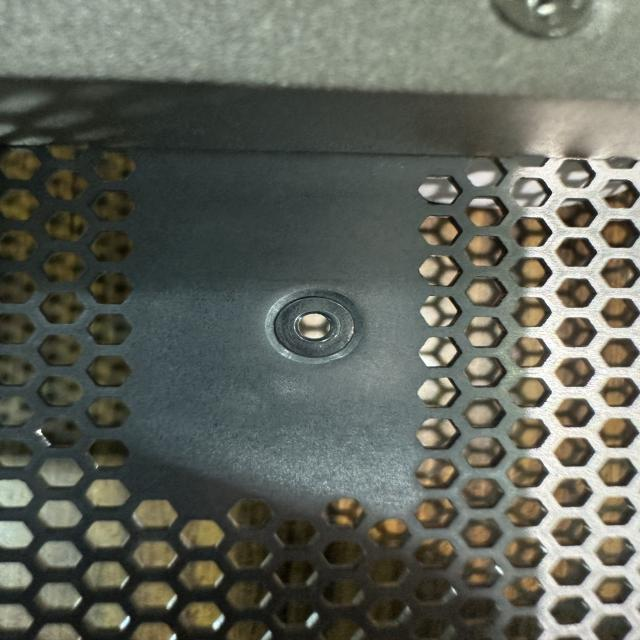Missing screw: (259, 283, 372, 371)
